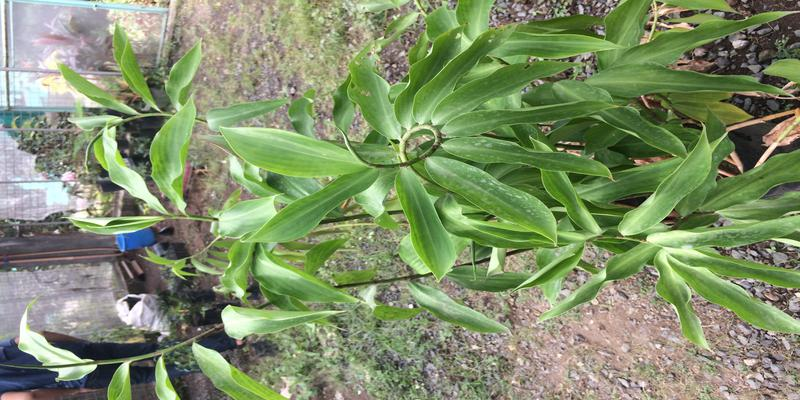Insulin: (60, 58, 777, 290)
